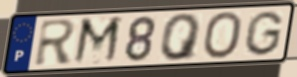8: (123, 15, 158, 63)
G: (242, 10, 286, 58)
M: (70, 14, 125, 67)
O: (201, 10, 245, 61)
Q: (159, 12, 203, 63)
R: (32, 17, 78, 68)
